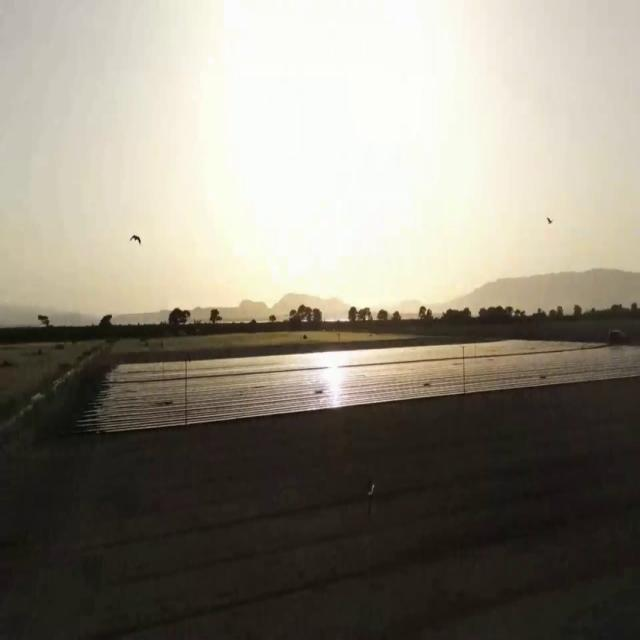bird: (130, 225, 142, 250), (546, 210, 553, 230)
